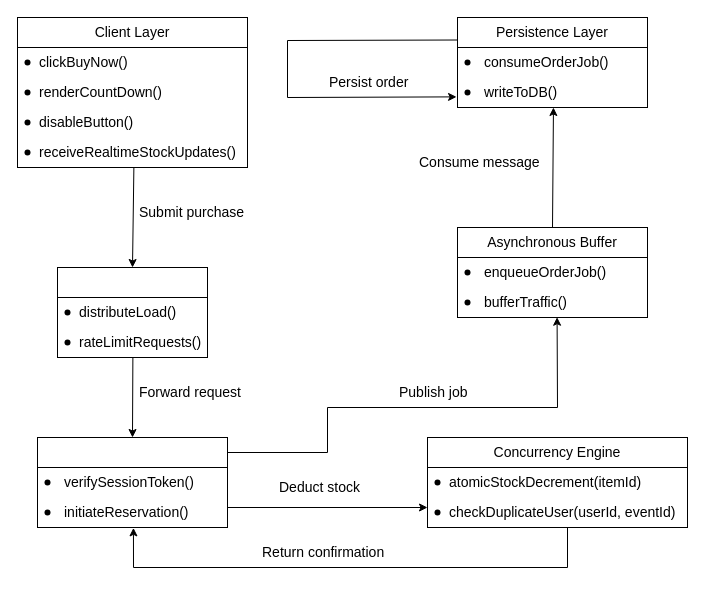
The diagram is 705 pixels wide and 593 high, and some of its shapes have lost their labels. Each missing label, with the centre of its shape:
"Execution Layer" goes at (x=132, y=452).
"Traffic Control Layer" goes at (x=132, y=282).
